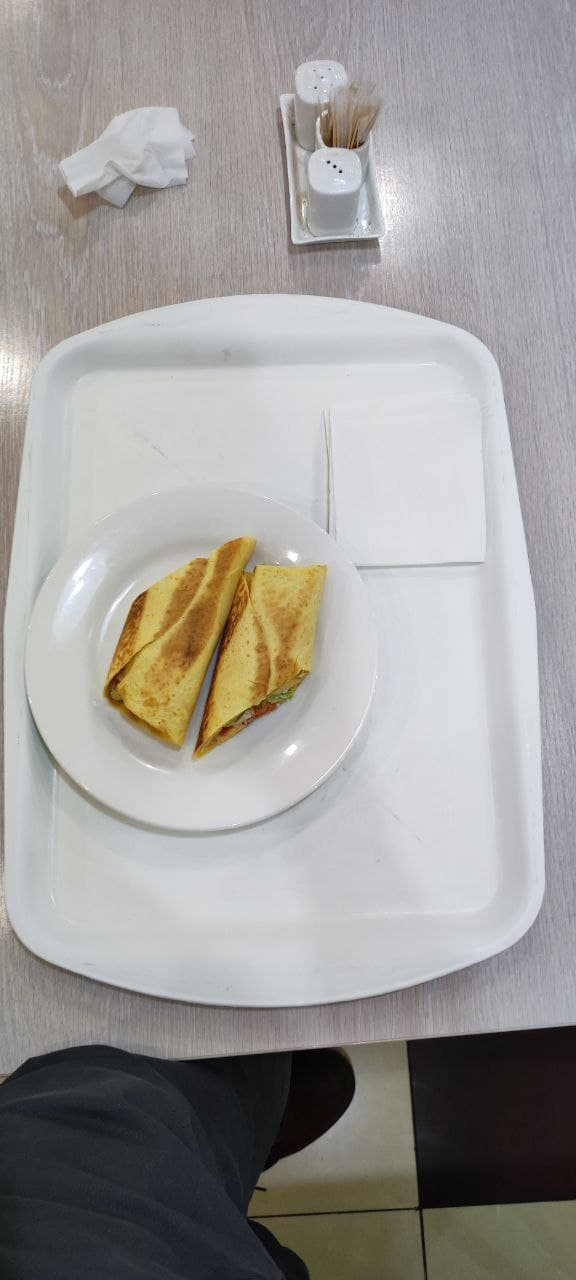Кесадилья с курицей: (100, 533, 329, 762)
Поднос: (3, 287, 546, 1019)
Салфетки: (324, 408, 487, 569)
Тарелка: (25, 484, 378, 834)
